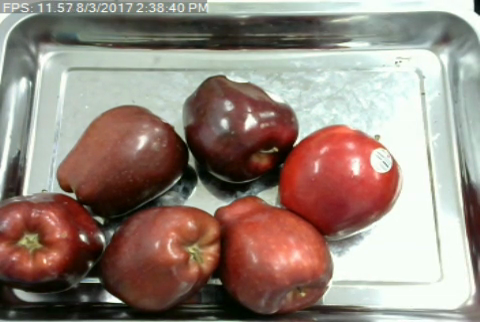Apple: (54, 102, 190, 219), (211, 194, 337, 319), (275, 121, 405, 237), (96, 202, 222, 316), (180, 71, 301, 186), (0, 187, 108, 298)
